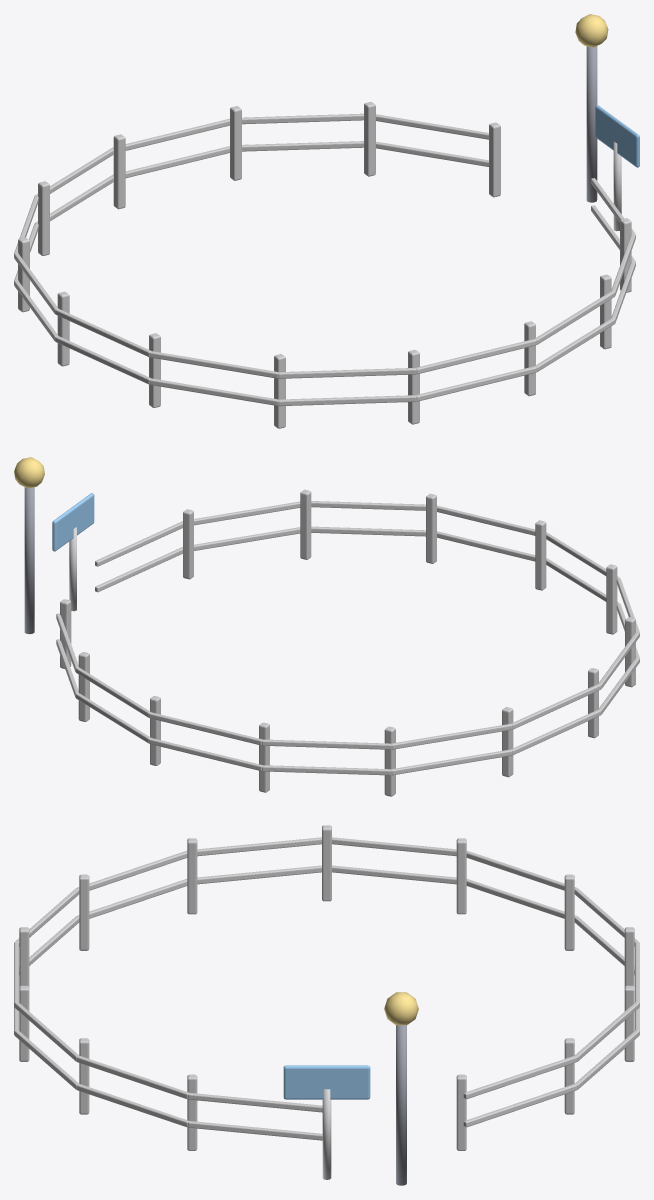
The model's file is intake_corral.glb.
The picture shows the model from 3 angles, top to bottom: view 1: azimuth 30°, elevation 25°; view 2: azimuth 150°, elevation 25°; view 3: azimuth 270°, elevation 25°; orthographic projection. The views are drawn at different scales.
Visible parts, largest first — view 1: intake_corral; view 2: intake_corral; view 3: intake_corral.
Boxes of the visible parts, <box> form: intake_corral: <box>14,14,639,428</box>; intake_corral: <box>14,457,639,796</box>; intake_corral: <box>14,825,639,1185</box>.
Size of the model in its own units: 11.23 by 3.38 by 10.08.
